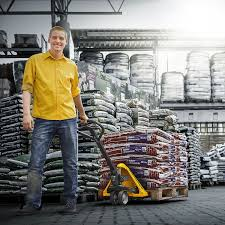Pallet Jack: (77, 119, 192, 207)
